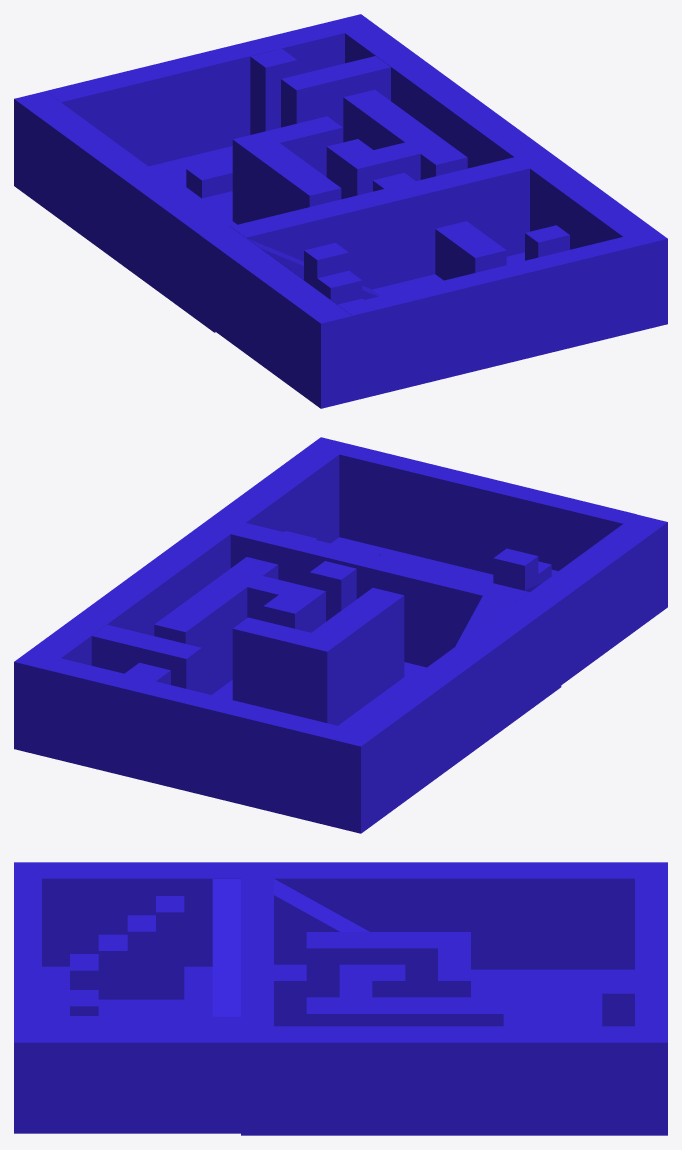
The model's file is demo1.fbx.
3 views of the same model, one above another, from view 1: azimuth 30°, elevation 25°; view 2: azimuth 150°, elevation 25°; view 3: azimuth 270°, elevation 25° (orthographic). The views are drawn at different scales.
Visible parts, largest first — view 1: Cube; view 2: Cube; view 3: Cube.
Part boxes in pixels (x1,y1,x2,y2): Cube: (14, 14, 667, 408); Cube: (14, 437, 667, 833); Cube: (14, 862, 667, 1135).
Bounding box in the file's own units: 4000 × 961 × 6127.
